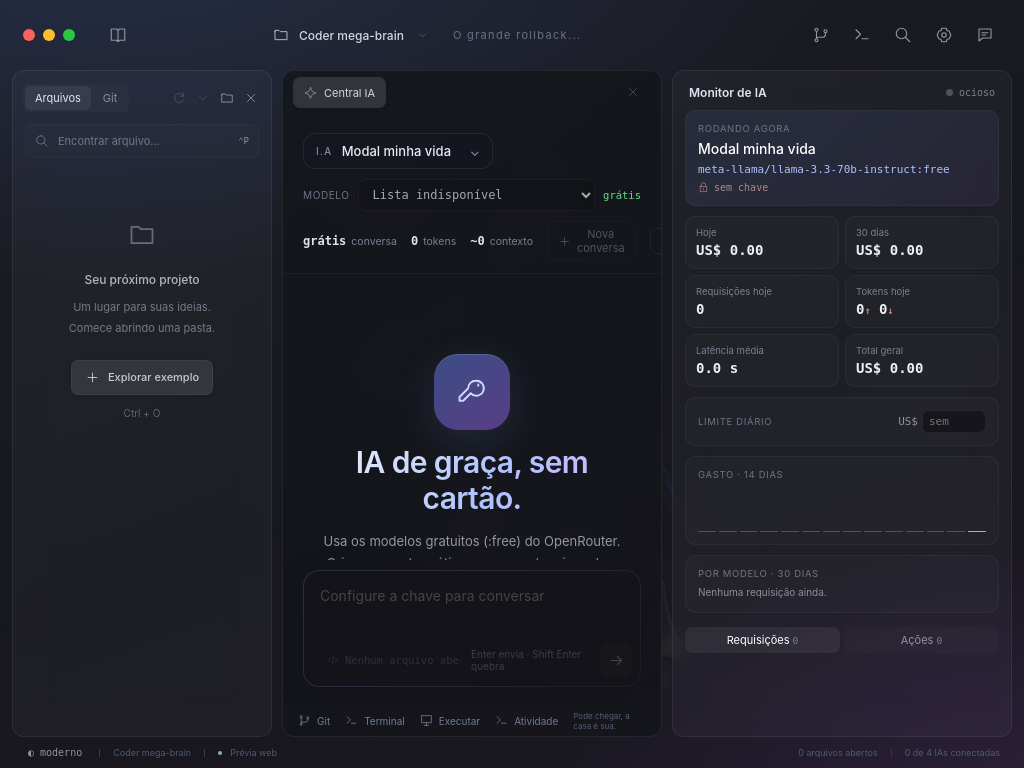
Test: App · casca do editor › explora o projeto de exemplo, abre pastas e filtra arquivos
The width and height of the screenshot is (1024, 768).
Click the button "Explorar exemplo" at coordinates (142, 377), box [71,360,213,395]
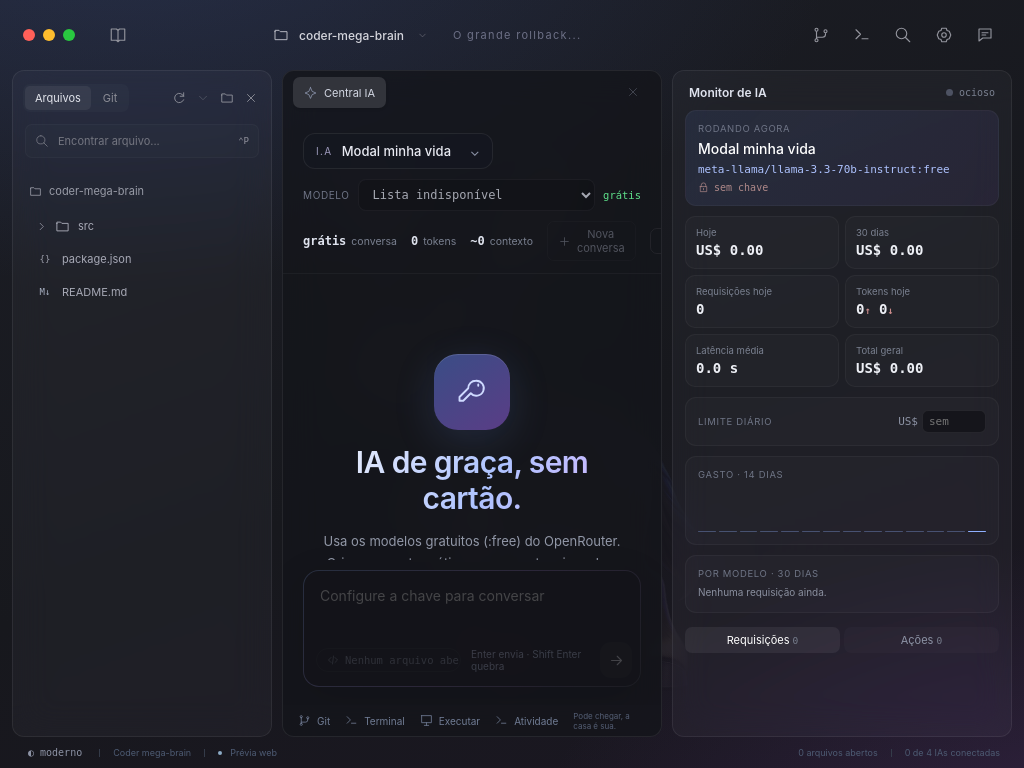
Expected: the text "README.md" is shown, [62,285,127,299]
Click the button titled "src" at coordinates (142, 226), box [20,210,264,242]
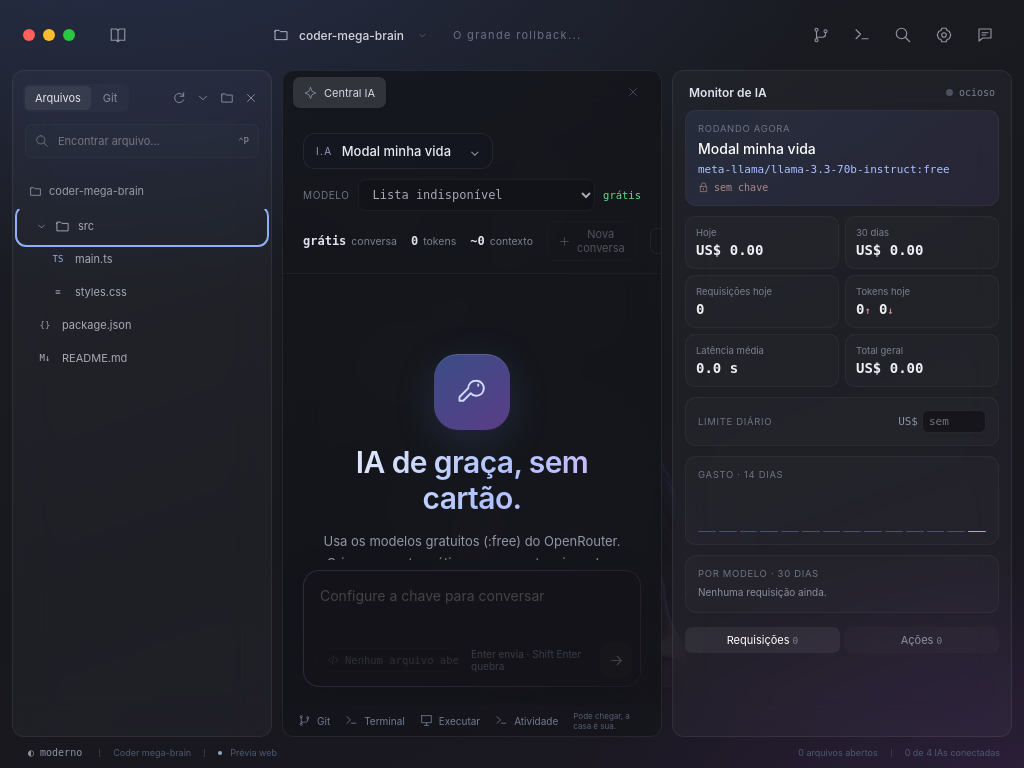
Expected: the button titled "main.ts" is shown, [20,243,264,275]
Click the button named "Recolher pastas" at coordinates (203, 98), box [191,86,215,110]
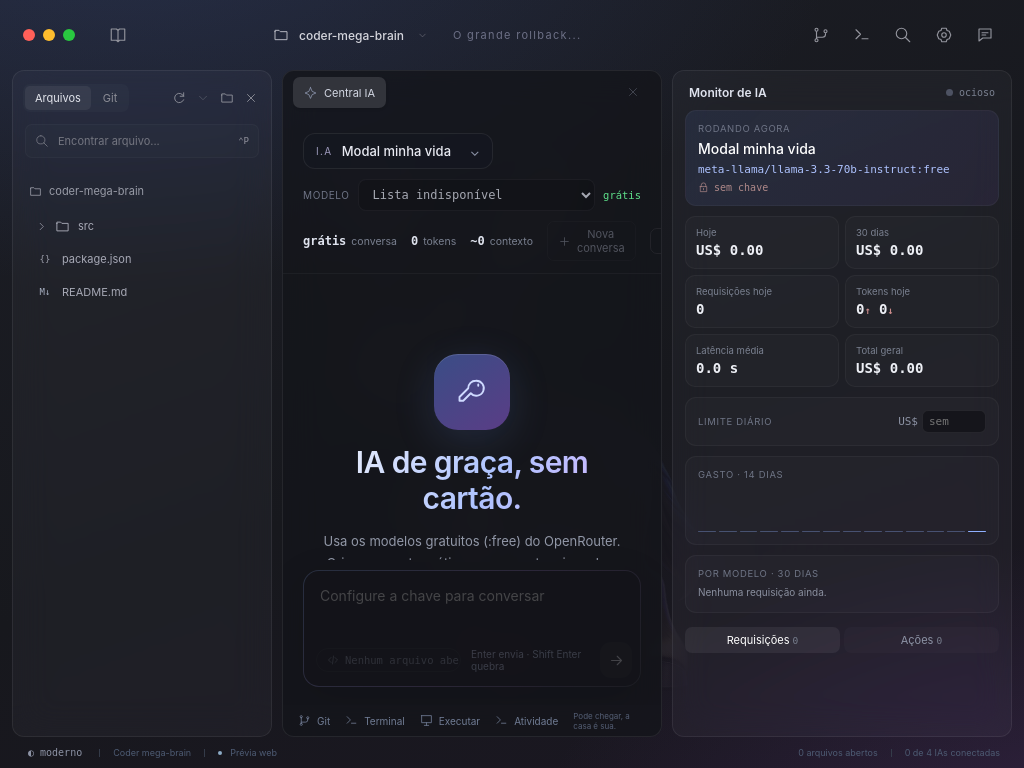
Expected: the button titled "main.ts" is gone
Type "read" into the field named "Filtrar arquivos carregados" at coordinates (144, 141), box [56,133,231,149]
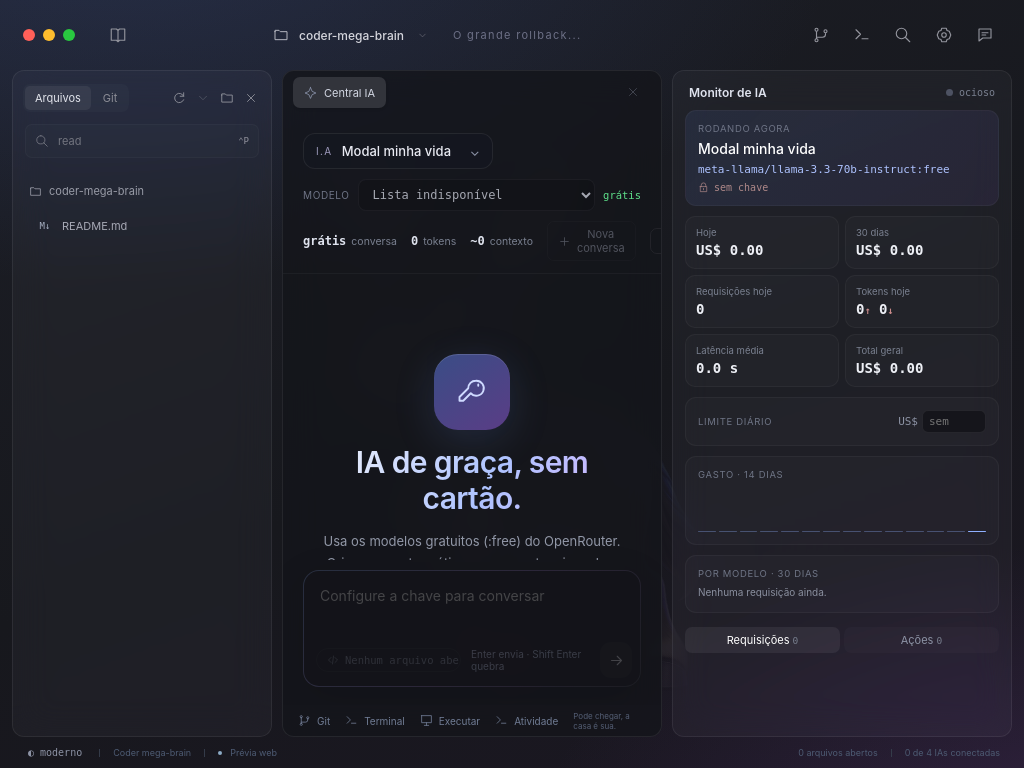
Expected: the button titled "README.md" is shown, [20,210,264,242]
Expected: the button titled "package.json" is gone
